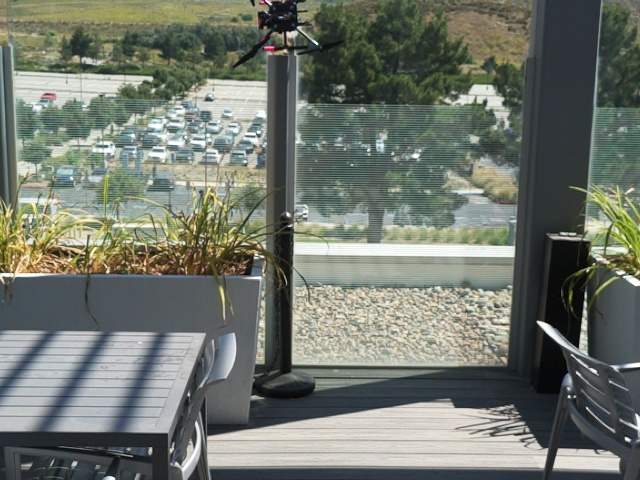quadcopter: (215, 1, 351, 70)
